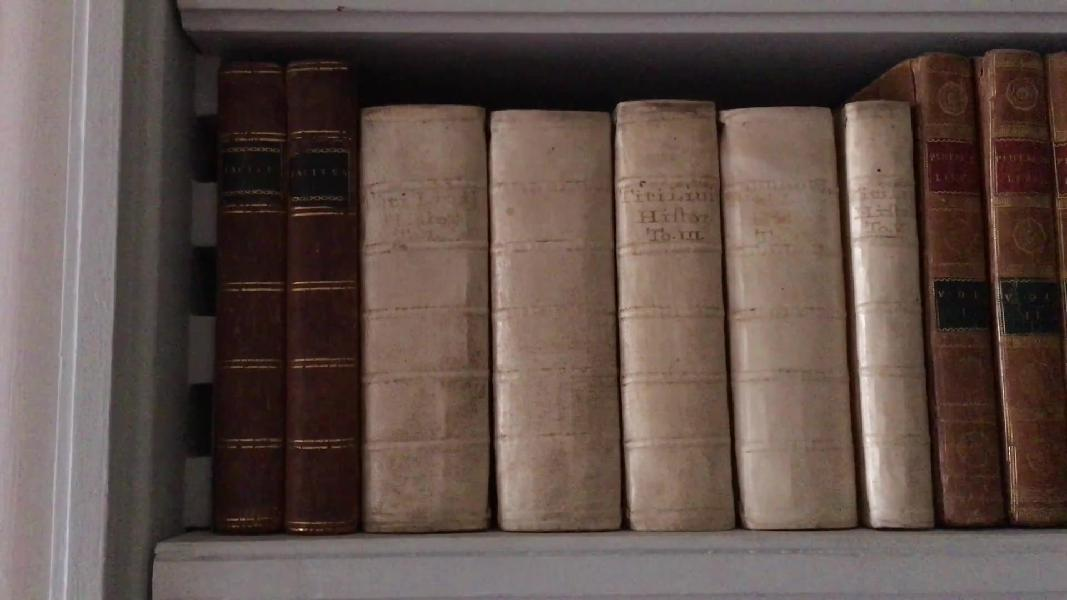Kk4-1_2: (201, 50, 377, 539)
Kk4-3_7: (347, 96, 942, 542)
Kk4-8_13: (896, 44, 1067, 526)
